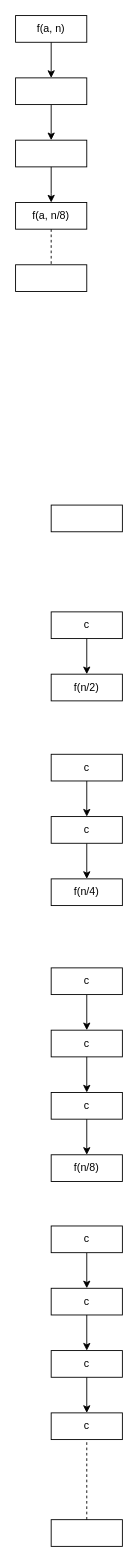
The diagram is 138 pixels wide and 1562 high, and some of its shapes have lost their labels. The box of each missing label's shape, as (x1, y1, x2, y2) in pixels:
f(1): (50, 1519, 122, 1546)
f(a, 0): (15, 264, 87, 291)
f(a, n/2): (15, 77, 87, 105)
f(a, n/4): (15, 139, 87, 167)
f(n): (50, 504, 122, 532)
